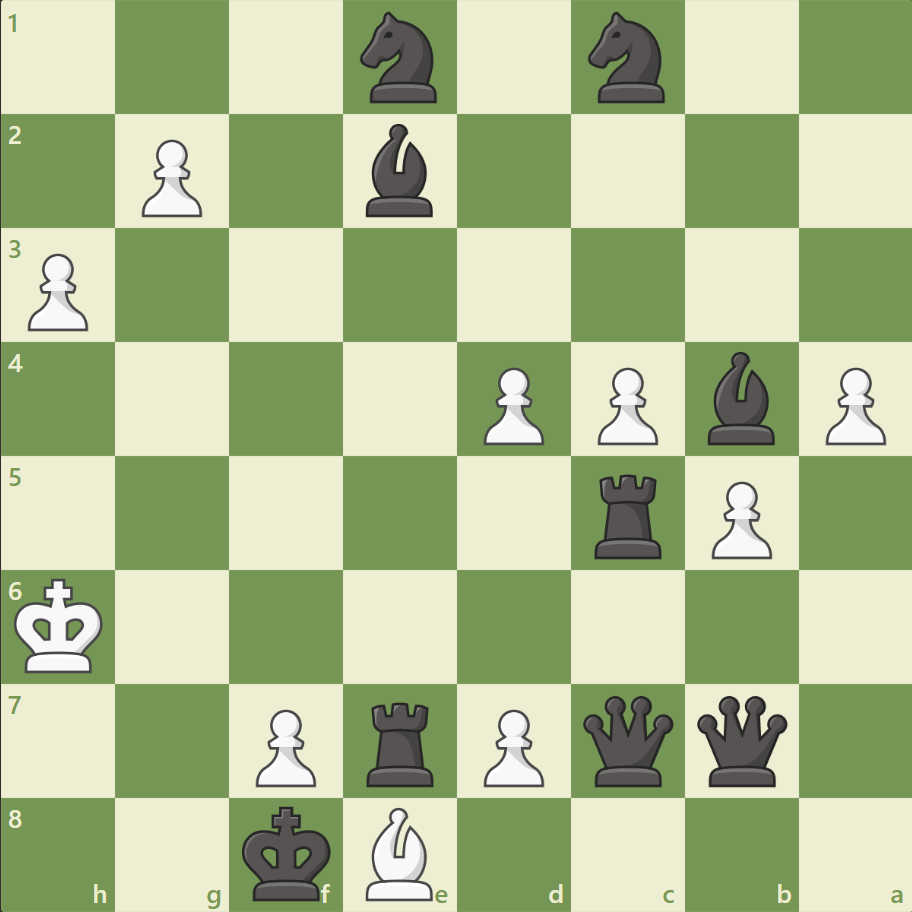B: (358, 801, 442, 904)
K: (11, 571, 111, 679)
P: (474, 700, 549, 791), (247, 700, 322, 791), (701, 473, 776, 564), (474, 359, 549, 450), (20, 246, 95, 337), (133, 132, 208, 223), (815, 359, 889, 450), (588, 359, 662, 450)
b: (698, 347, 782, 449), (358, 120, 442, 222)
k: (238, 798, 338, 906)
n: (351, 7, 449, 110), (579, 7, 676, 110)
q: (691, 690, 790, 789), (578, 690, 677, 789)
r: (587, 466, 670, 563), (360, 693, 442, 790)
